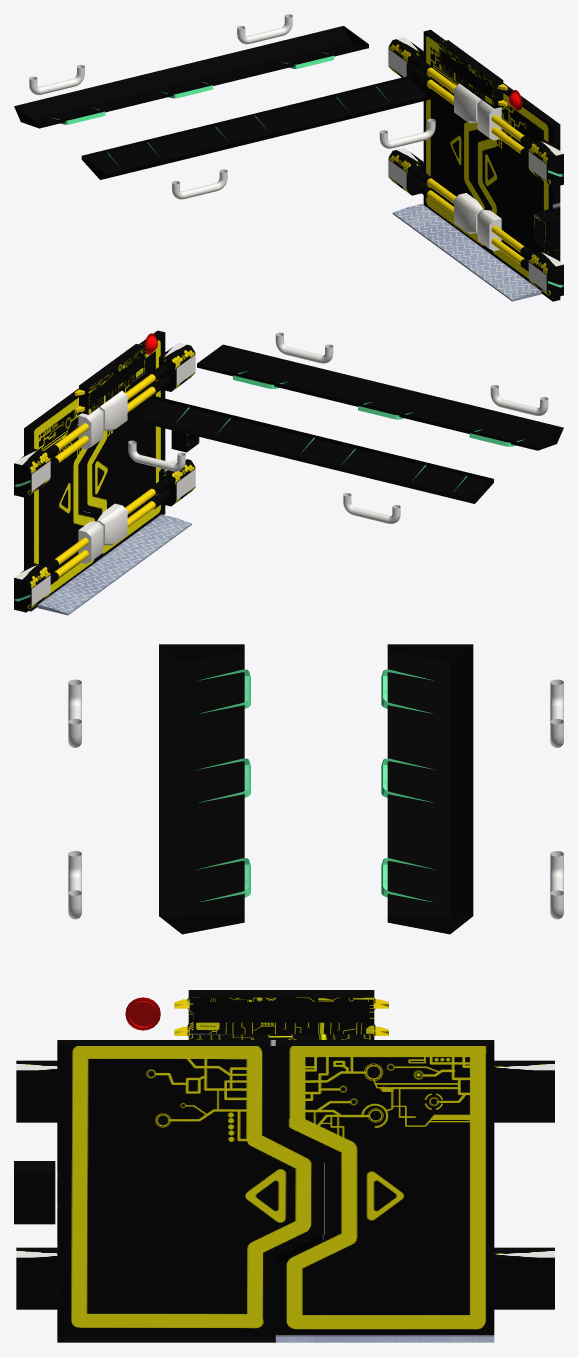
Rendered from wall_perts.fbx.
3 renders of one model, top to bottom at view 1: azimuth 30°, elevation 25°; view 2: azimuth 150°, elevation 25°; view 3: azimuth 270°, elevation 25°, orthographic. The views are drawn at different scales.
Parts seen in each view (by area): view 1: ceiling, wall2, doar_2, doar_1, board, pomp_1_1, pomp_2_1, pomp_1_2, pomp_2_2; view 2: ceiling, wall2, doar_1, doar_2, board, pomp_2_1, pomp_1_1, pomp_2_2, pomp_1_2; view 3: doar_2, doar_1, ceiling, wall2.
Part boxes in pixels (box(x1,y1,x2,y2)): ceiling: box(14, 14, 436, 199); wall2: box(388, 37, 563, 298); doar_2: box(474, 83, 560, 301); doar_1: box(423, 29, 488, 251); board: box(392, 204, 541, 301); pomp_1_1: box(427, 67, 483, 233); pomp_2_1: box(477, 100, 524, 264); pomp_1_2: box(413, 57, 433, 197); pomp_2_2: box(520, 136, 534, 271); ceiling: box(127, 332, 563, 523); wall2: box(14, 333, 199, 612); doar_1: box(24, 388, 98, 611); doar_2: box(83, 330, 165, 559); board: box(37, 514, 191, 615); pomp_2_1: box(97, 374, 155, 545); pomp_1_1: box(54, 407, 103, 577); pomp_2_2: box(149, 363, 169, 508); pomp_1_2: box(44, 444, 58, 584); doar_2: box(57, 1040, 323, 1342); doar_1: box(275, 1040, 494, 1342); ceiling: box(68, 644, 563, 934); wall2: box(14, 990, 554, 1309).
Bounding box in the file's own units: 144 × 67.09 × 95.73.
Materials: 1 (1 with a texture image).
